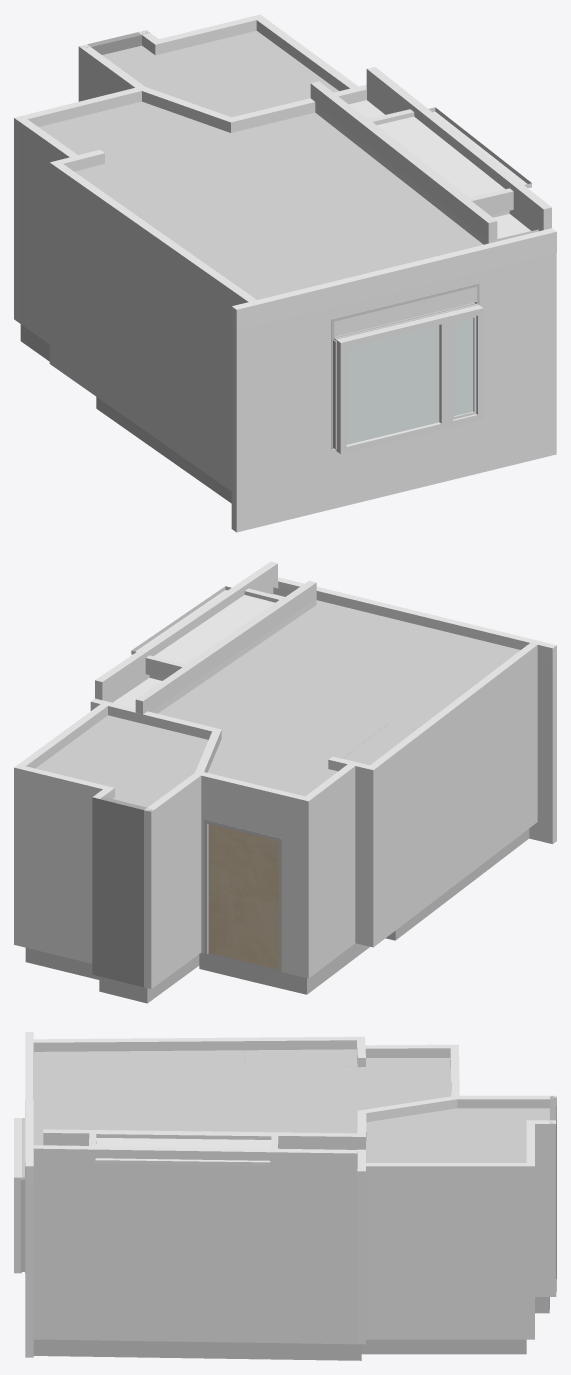
Rendered from residentRoom3.glb.
The picture shows the model from 3 angles, top to bottom: view 1: azimuth 30°, elevation 25°; view 2: azimuth 150°, elevation 25°; view 3: azimuth 270°, elevation 25°; orthographic projection. The views are drawn at different scales.
Visible parts, largest first — view 1: CEILING, WALL, WALL_12, WINDOW, Walls_2, WALL_10, WINDOW FRAME, INT E1 - 4 1/4" (0-HR) 1 SIDE GYP BD SOUND BATT, GWB-1_3, SE_TELEVISION, WALL_2, GWB-1 (+8 smaller); view 2: CEILING, WALL_12, WALL_5, WALL_7, WALL_2, Walls_3, DOOR, WALL_10, FLOOR, INT E1 - 4 1/4" (0-HR) 1 SIDE GYP BD SOUND BATT, Walls_2, WALL (+8 smaller); view 3: WALL_9, CEILING, WALL_4, FLOOR, SE_TELEVISION, WALL_12, WALL_6, INT E1 - 4 1/4" (0-HR) 1 SIDE GYP BD SOUND BATT, GWB-1_3, WALL_8, WALL_5, WALL (+7 smaller).
Part boxes in pixels (x1,y1,x2,y2): CEILING: (39, 30, 483, 299); WALL: (231, 253, 556, 532); WALL_12: (49, 160, 256, 491); WINDOW: (346, 318, 473, 444); Walls_2: (231, 228, 556, 330); WALL_10: (19, 119, 77, 343); WINDOW FRAME: (336, 305, 483, 454); INT E1 - 4 1/4" (0-HR) 1 SIDE GYP BD SOUND BATT: (310, 81, 513, 240); GWB-1_3: (373, 107, 531, 197); SE_TELEVISION: (366, 67, 551, 229); WALL_2: (14, 88, 140, 322); GWB-1: (315, 100, 538, 244); CEILING: (35, 600, 520, 807); WALL_12: (366, 643, 537, 947); WALL_5: (14, 764, 106, 963); WALL_7: (144, 771, 204, 989); WALL_2: (201, 772, 312, 978); Walls_3: (92, 796, 153, 987); DOOR: (208, 824, 278, 969); WALL_10: (305, 764, 355, 974); FLOOR: (25, 829, 529, 1003); INT E1 - 4 1/4" (0-HR) 1 SIDE GYP BD SOUND BATT: (135, 580, 316, 714); Walls_2: (278, 577, 556, 666); WALL: (529, 663, 556, 844); WALL_9: (33, 1165, 357, 1344); CEILING: (33, 1049, 549, 1162); WALL_4: (366, 1163, 526, 1339); FLOOR: (33, 1297, 549, 1360); SE_TELEVISION: (33, 1145, 357, 1171); WALL_12: (33, 1036, 365, 1099); WALL_6: (526, 1120, 556, 1296); INT E1 - 4 1/4" (0-HR) 1 SIDE GYP BD SOUND BATT: (43, 1129, 365, 1149); GWB-1_3: (95, 1134, 271, 1165); WALL_8: (357, 1111, 366, 1344); WALL_5: (526, 1124, 534, 1339); WALL: (25, 1184, 33, 1357).
Bounding box in the file's own units: 5.13 × 3.5 × 8.23.
42 materials, 7 textured.
